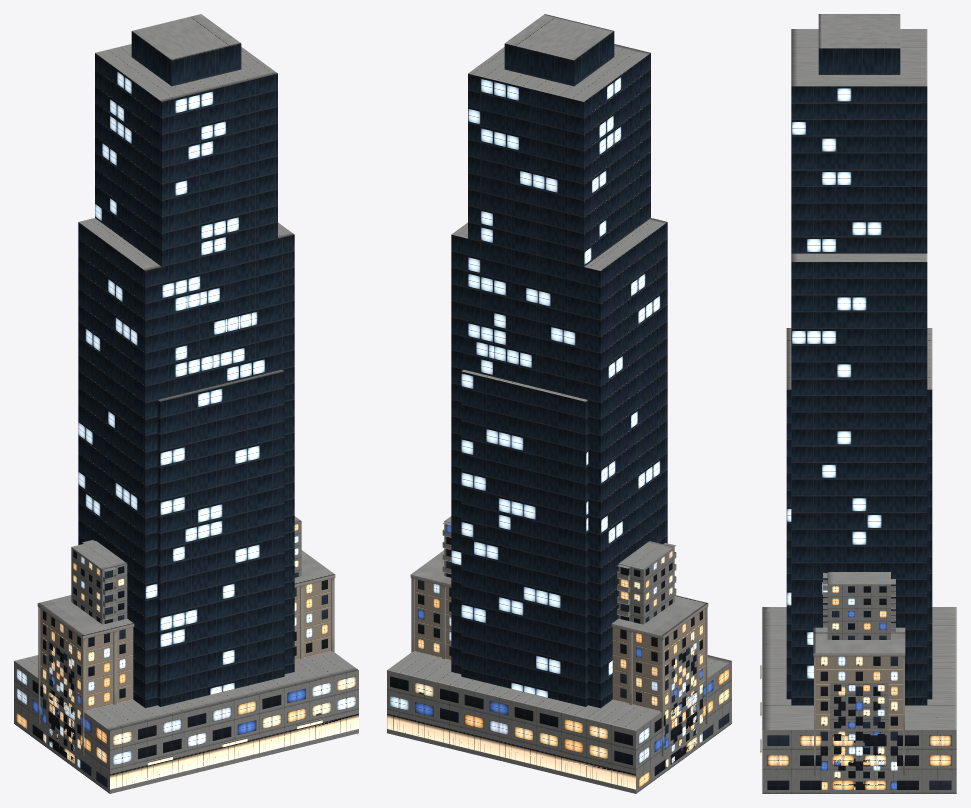
File: modules.glb
The picture shows the model from 3 angles, left to right: view 1: azimuth 30°, elevation 25°; view 2: azimuth 150°, elevation 25°; view 3: azimuth 270°, elevation 25°; orthographic projection.
Parts seen in each view (by area): view 1: tower_c, tower_a, tower_b, mall_a, stalinka_c, panel16_b, panel9_b, khrush_b; view 2: tower_c, tower_a, tower_b, mall_a, stalinka_c, panel16_b, panel9_b, khrush_b; view 3: tower_b, tower_c, mall_a, stalinka_c, panel16_b, tower_a, panel9_b, khrush_b.
Boxes of the visible parts, left/top/right/bottom form: tower_c: left=95, top=14, right=277, bottom=398; tower_a: left=157, top=370, right=284, bottom=706; tower_b: left=78, top=218, right=294, bottom=708; mall_a: left=14, top=651, right=358, bottom=793; stalinka_c: left=37, top=550, right=335, bottom=767; panel16_b: left=71, top=516, right=301, bottom=624; panel9_b: left=47, top=639, right=76, bottom=764; khrush_b: left=47, top=694, right=76, bottom=763; tower_c: left=468, top=14, right=650, bottom=398; tower_a: left=461, top=370, right=588, bottom=706; tower_b: left=451, top=218, right=667, bottom=708; mall_a: left=387, top=651, right=731, bottom=793; stalinka_c: left=410, top=550, right=708, bottom=767; panel16_b: left=442, top=516, right=676, bottom=624; panel9_b: left=669, top=639, right=698, bottom=760; khrush_b: left=670, top=690, right=698, bottom=763; tower_b: left=791, top=253, right=927, bottom=705; tower_c: left=791, top=14, right=927, bottom=253; mall_a: left=760, top=607, right=956, bottom=793; stalinka_c: left=813, top=627, right=905, bottom=789; panel16_b: left=823, top=572, right=895, bottom=639; tower_a: left=786, top=328, right=932, bottom=699; panel9_b: left=830, top=683, right=888, bottom=793; khrush_b: left=830, top=740, right=888, bottom=788.
Size of what is drawn, in the model's own units: 60.9 by 159 by 40.43.
1 material, 1 textured.
